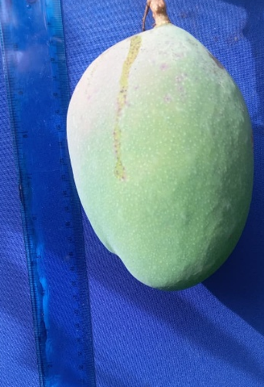Mango-sano: (67, 0, 253, 289)
